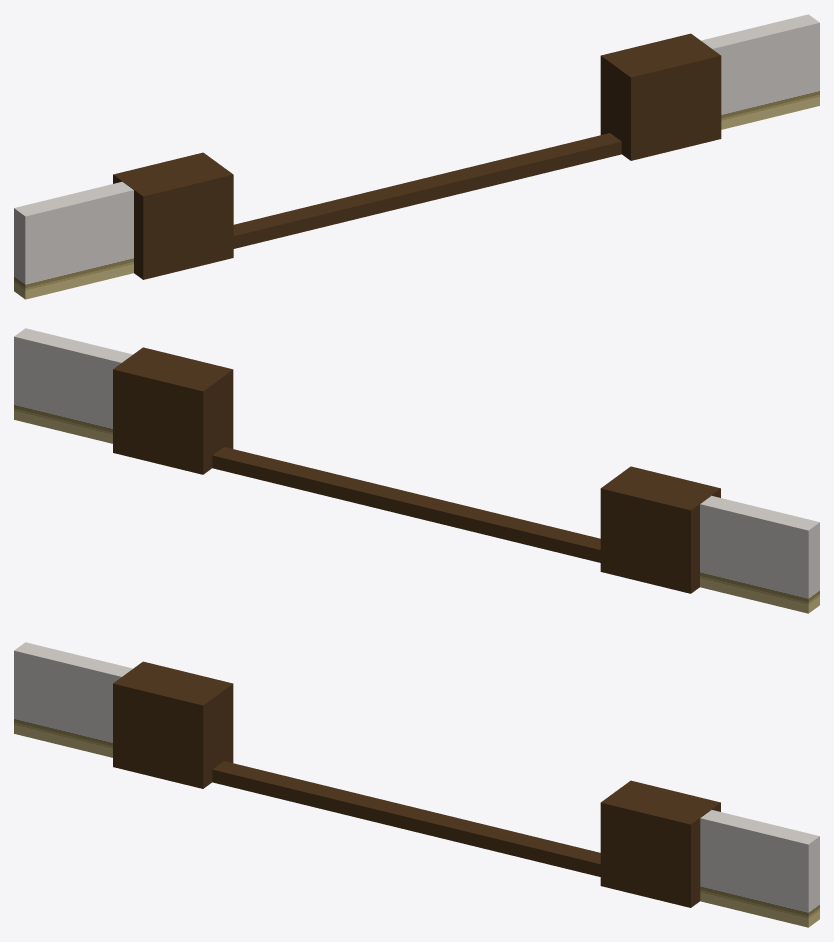
The model's file is doubledoor_culled.fbx.
3 views of the same model, one above another, from view 1: azimuth 30°, elevation 25°; view 2: azimuth 150°, elevation 25°; view 3: azimuth 330°, elevation 25° (orthographic).
Parts seen in each view (by area): view 1: geo_doorFrameSide_08, geo_DoubleDoorWallCulled_01, geo_doorFrameSide_04, geo_doorFrameBase_01, geo_DoubleDoorWallCulled_02; view 2: geo_doorFrameSide_08, geo_DoubleDoorWallCulled_01, geo_doorFrameSide_04, geo_doorFrameBase_01, geo_DoubleDoorWallCulled_02; view 3: geo_doorFrameSide_04, geo_DoubleDoorWallCulled_02, geo_doorFrameSide_08, geo_doorFrameBase_01, geo_DoubleDoorWallCulled_01.
Boxes of the visible parts, bbox=[...] form: geo_doorFrameSide_08: bbox=[600, 33, 721, 160]; geo_DoubleDoorWallCulled_01: bbox=[14, 181, 133, 299]; geo_doorFrameSide_04: bbox=[113, 152, 233, 279]; geo_doorFrameBase_01: bbox=[233, 133, 621, 248]; geo_DoubleDoorWallCulled_02: bbox=[701, 14, 819, 129]; geo_doorFrameSide_08: bbox=[113, 347, 233, 474]; geo_DoubleDoorWallCulled_01: bbox=[700, 495, 819, 613]; geo_doorFrameSide_04: bbox=[600, 466, 720, 593]; geo_doorFrameBase_01: bbox=[212, 447, 600, 562]; geo_DoubleDoorWallCulled_02: bbox=[14, 328, 132, 443]; geo_doorFrameSide_04: bbox=[113, 661, 233, 788]; geo_DoubleDoorWallCulled_02: bbox=[700, 810, 819, 927]; geo_doorFrameSide_08: bbox=[600, 780, 720, 907]; geo_doorFrameBase_01: bbox=[212, 761, 600, 876]; geo_DoubleDoorWallCulled_01: bbox=[14, 642, 132, 757].
Size of the model in its own units: 200 by 20.1 by 13.15.
Materials: 2 (1 with a texture image).
